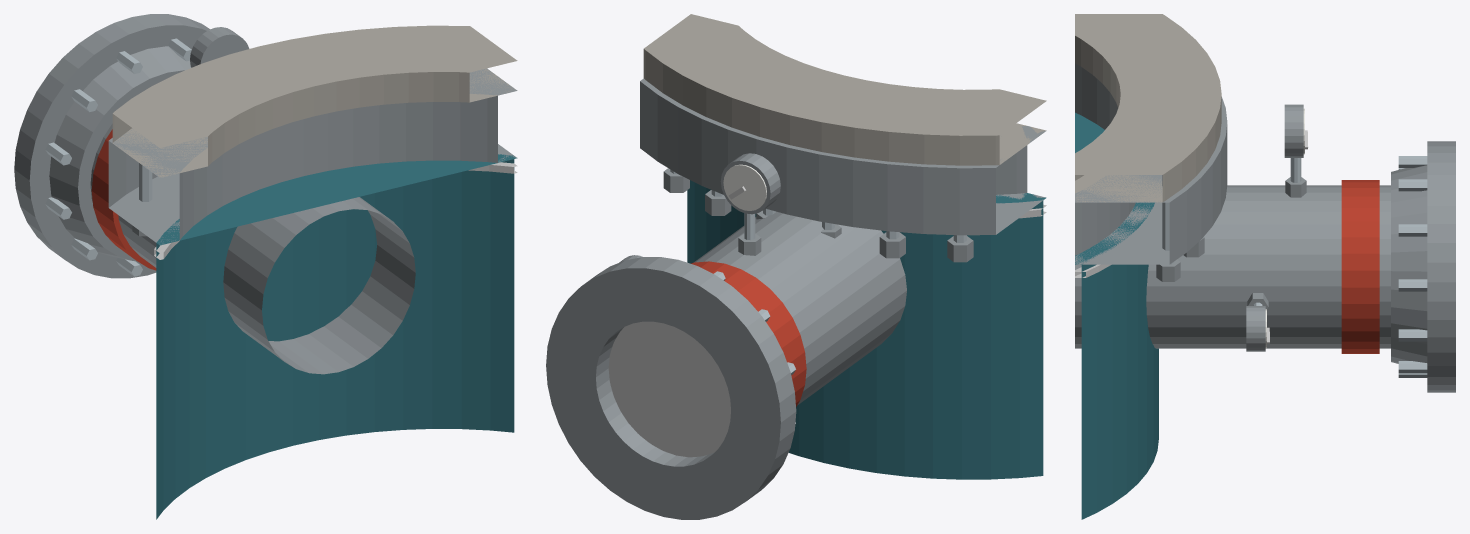
The model's file is cell_10.obj.
3 views of the same model, side by side, from view 1: azimuth 30°, elevation 25°; view 2: azimuth 150°, elevation 25°; view 3: azimuth 270°, elevation 25° (orthographic). The views are drawn at different scales.
Bounding box in the file's own units: 1 × 1 × 1.
